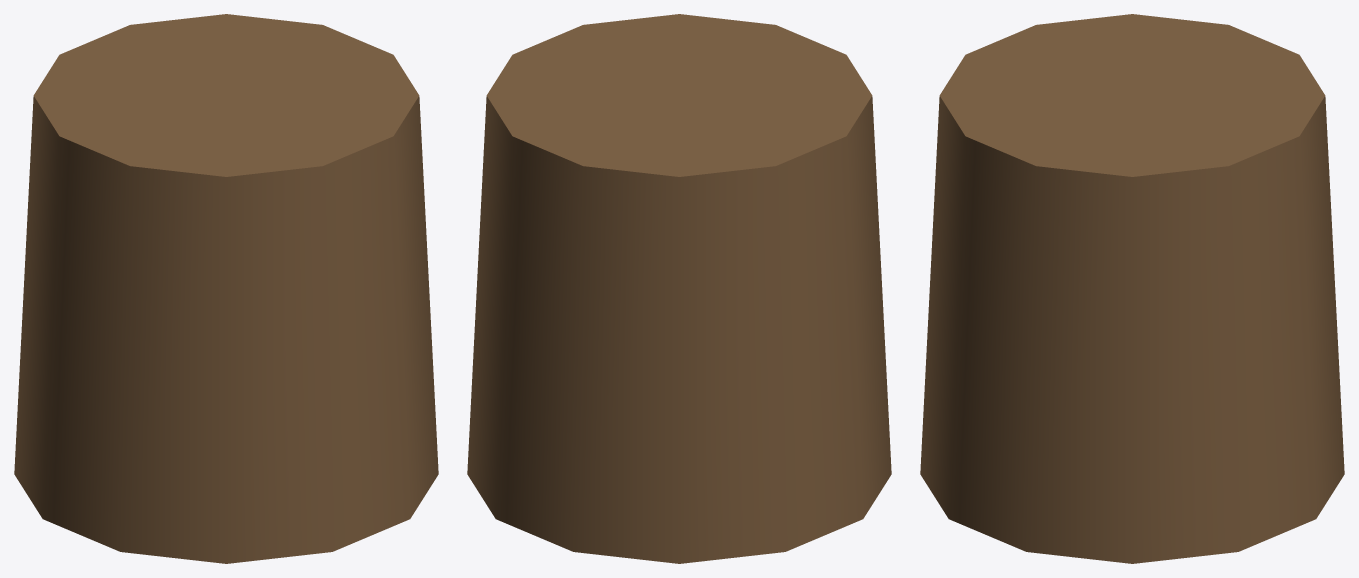
Rendered from barrel-closed.glb.
3 renders of one model, left to right at view 1: azimuth 30°, elevation 25°; view 2: azimuth 150°, elevation 25°; view 3: azimuth 270°, elevation 25°, orthographic.
Parts seen in each view (by area): view 1: barrel-closed; view 2: barrel-closed; view 3: barrel-closed.
Part boxes in pixels (box(x1,y1,x2,y2)): barrel-closed: box(14, 14, 438, 563); barrel-closed: box(467, 14, 891, 563); barrel-closed: box(920, 14, 1344, 563).
Size of the model in its own units: 0.66 by 0.65 by 0.66.
